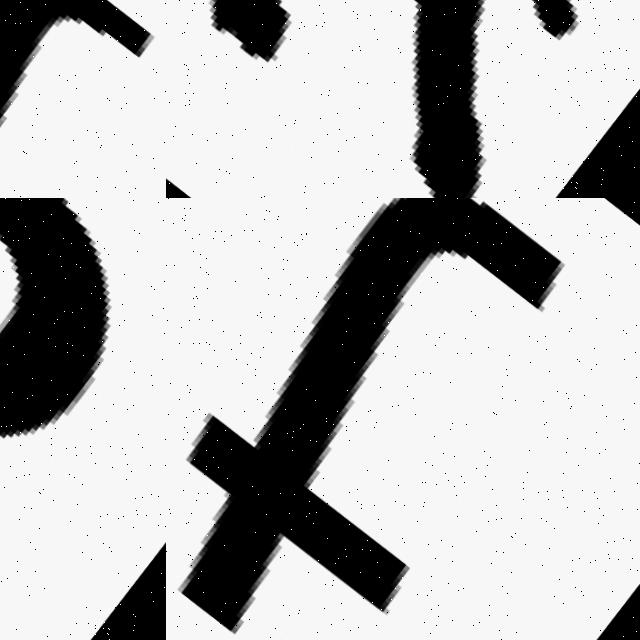1: (0, 0, 166, 198)
8: (0, 198, 166, 640)
T: (166, 198, 636, 640)
U: (166, 0, 640, 198)
